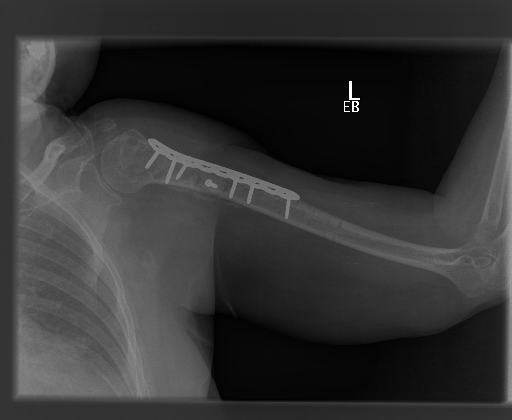implant: (145, 136, 300, 220)
